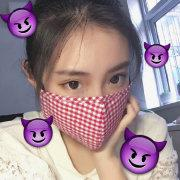OK: (39, 58, 136, 155)
